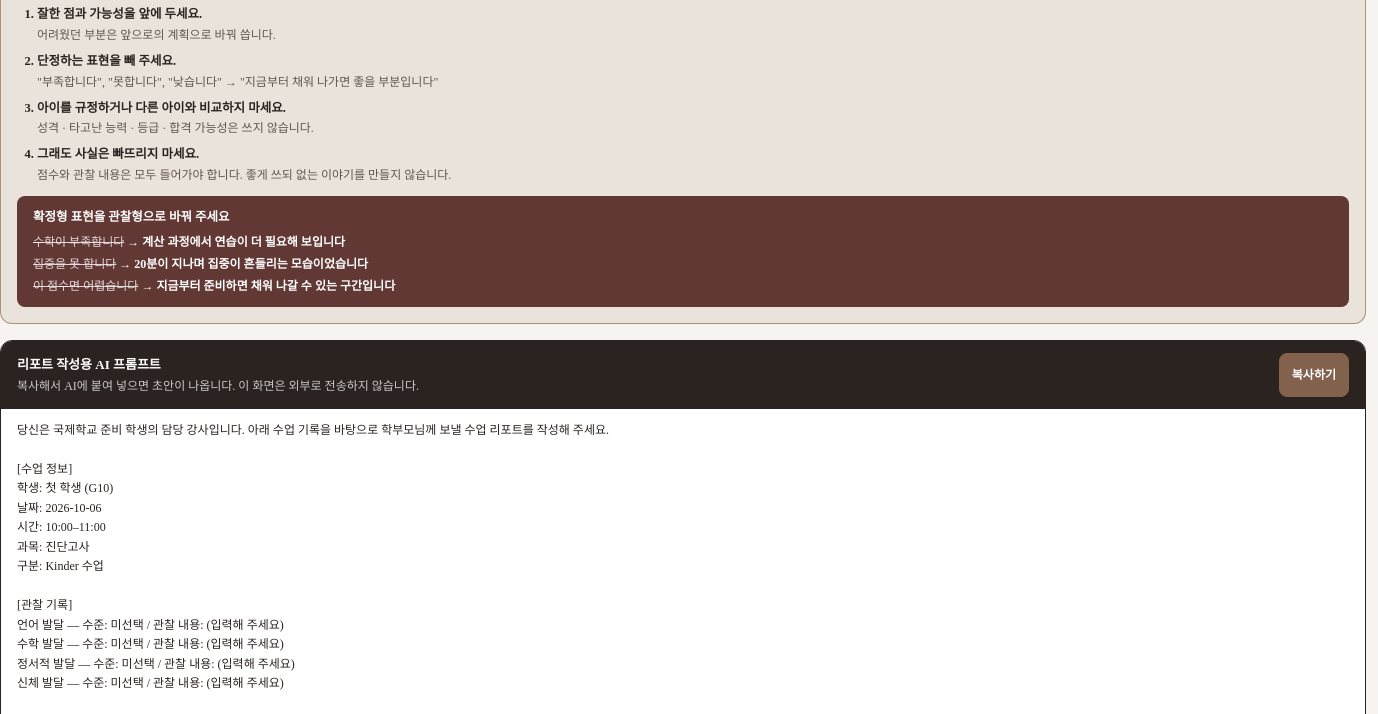
clipboard 권한 실패를 저장 성공으로 오인하지 않고 직접 복사 안내를 표시한다
(page scrolled)
Click the button "복사하기". click: (1314, 375)
box: [1279, 353, 1349, 397]
(page scrolled)
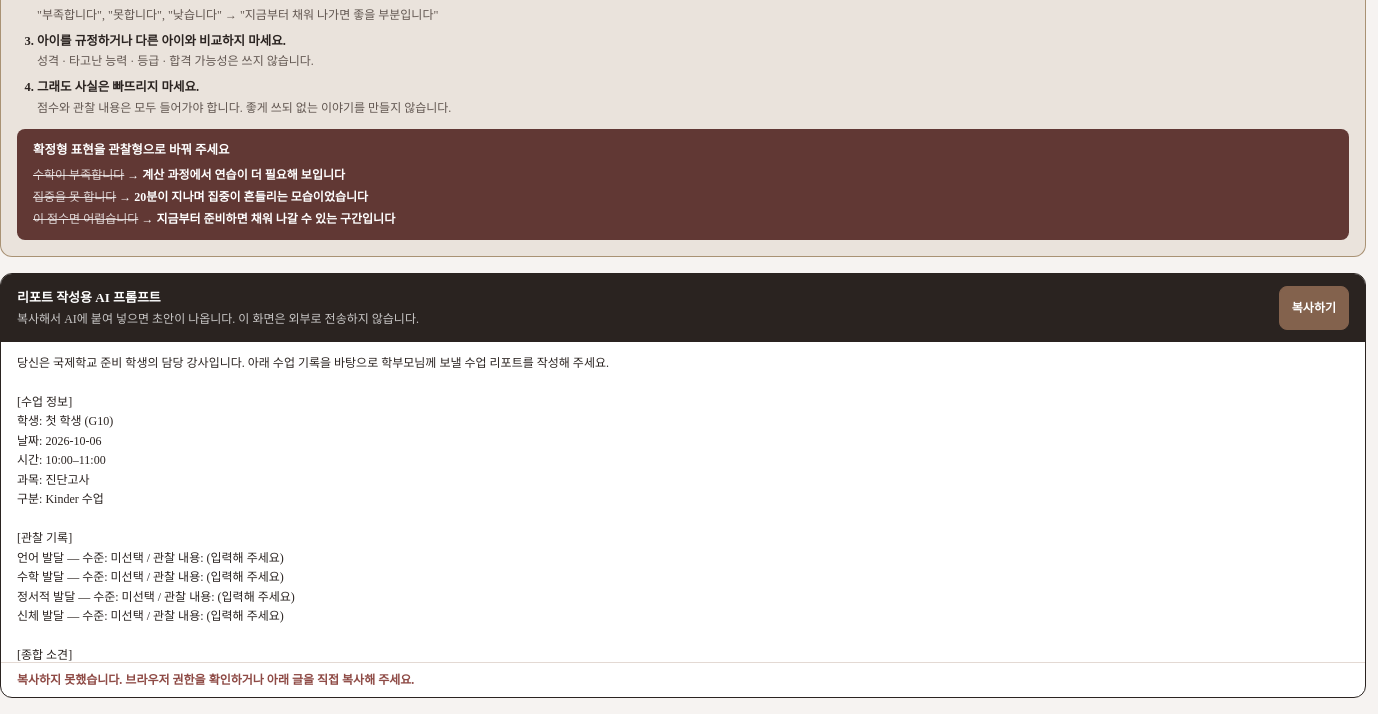
Expected: the message shows "복사하지 못했습니다", [17, 673, 414, 687]
